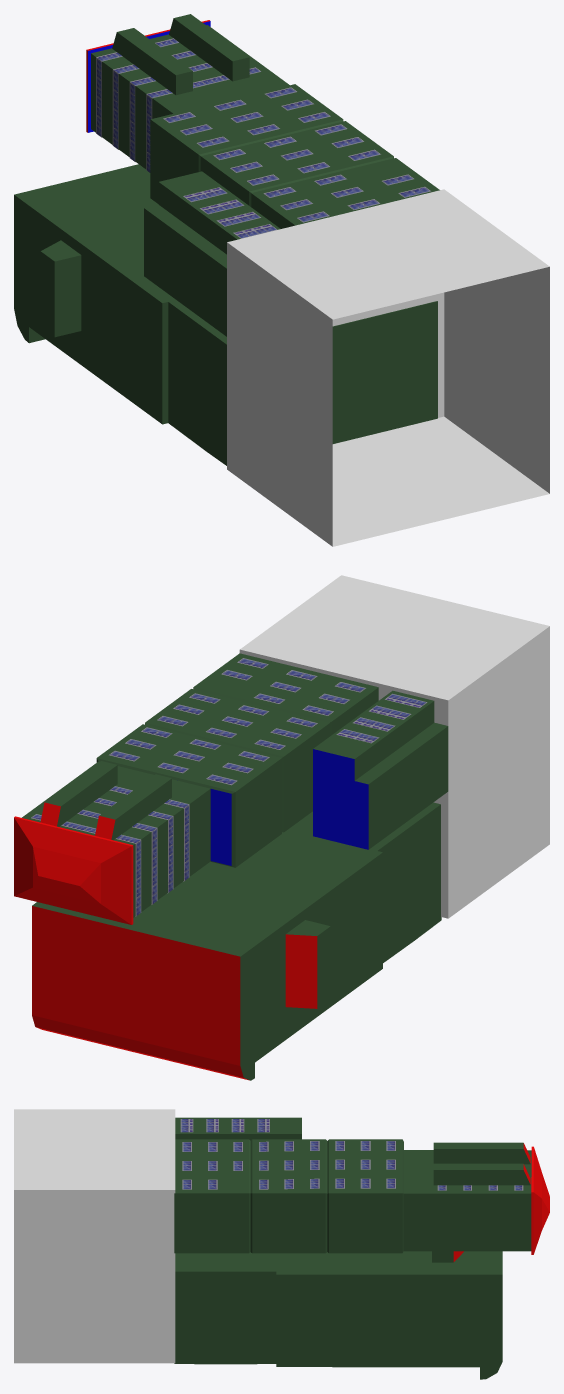
File: block_tall_02.FBX
3 views of the same model, one above another, from view 1: azimuth 30°, elevation 25°; view 2: azimuth 150°, elevation 25°; view 3: azimuth 270°, elevation 25° (orthographic). The views are drawn at different scales.
Parts seen in each view (by area): view 1: Plane002, building_8s_005, building_9s_008, Box1040, building_6s_008, Object090, Box1044; view 2: building_8s_005, Plane002, building_9s_008, building_6s_008, Object090, Box1040, Box1044; view 3: Plane002, building_9s_008, building_8s_005, building_6s_008, Box1040, Object090.
Part boxes in pixels (box(x1,y1,x2,y2)): Plane002: box(227, 189, 549, 546); building_8s_005: box(14, 164, 175, 424); building_9s_008: box(150, 84, 439, 228); Box1040: box(168, 300, 437, 465); building_6s_008: box(86, 14, 289, 172); Object090: box(144, 171, 280, 336); Box1044: box(40, 240, 81, 337); building_8s_005: box(32, 829, 382, 1080); Plane002: box(239, 575, 549, 918); building_9s_008: box(96, 653, 378, 867); building_6s_008: box(14, 761, 210, 924); Object090: box(313, 690, 448, 849); Box1040: box(289, 802, 441, 962); Box1044: box(285, 920, 330, 1008); Plane002: box(14, 1109, 175, 1363); building_9s_008: box(174, 1139, 403, 1253); building_8s_005: box(276, 1251, 502, 1379); building_6s_008: box(404, 1142, 549, 1254); Box1040: box(174, 1252, 276, 1364); Object090: box(175, 1117, 301, 1140).
Bounding box in the file's own units: 33.68 × 34.56 × 84.09.
